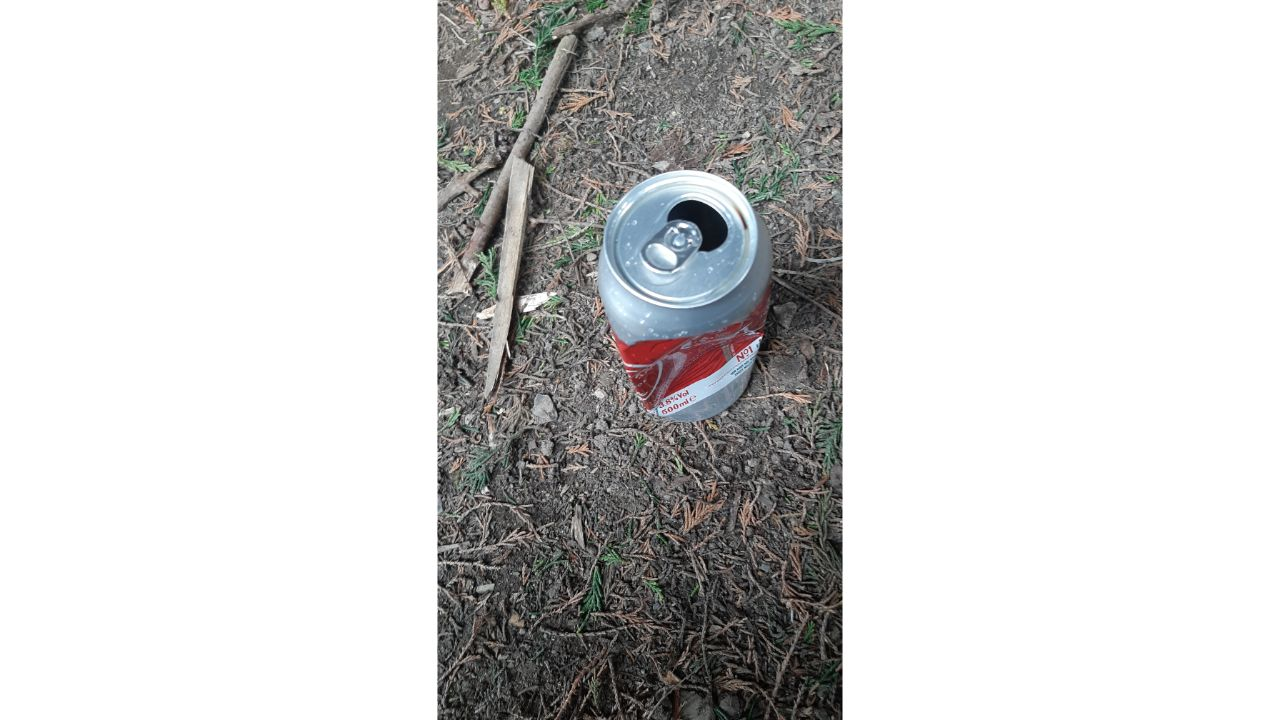Can: (593, 171, 771, 434)
